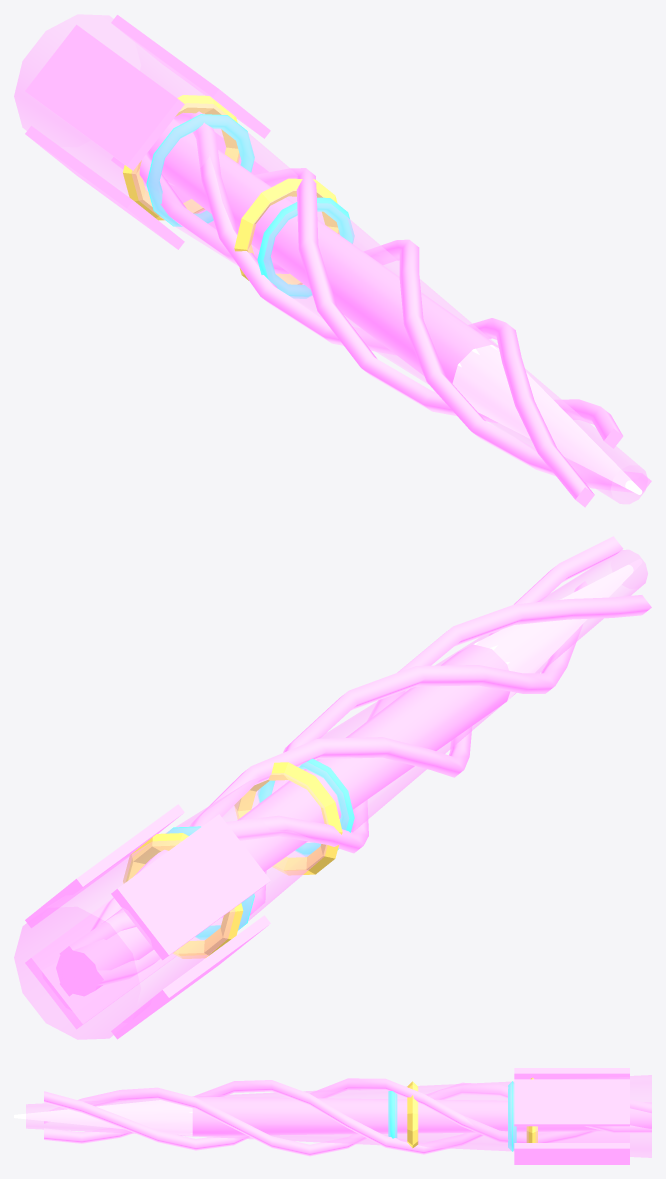
The model's file is tachyon_lance.glb.
The picture shows the model from 3 angles, top to bottom: view 1: azimuth 30°, elevation 25°; view 2: azimuth 150°, elevation 25°; view 3: azimuth 270°, elevation 25°; orthographic projection. The views are drawn at different scales.
Visible parts, largest first — view 1: Tachyon_Lance_Mesh; view 2: Tachyon_Lance_Mesh; view 3: Tachyon_Lance_Mesh.
Boxes of the visible parts, bbox=[...] form: Tachyon_Lance_Mesh: bbox=[14, 14, 651, 507]; Tachyon_Lance_Mesh: bbox=[14, 536, 651, 1039]; Tachyon_Lance_Mesh: bbox=[14, 1068, 651, 1164].
Bounding box in the file's own units: 0.4738 × 0.4738 × 3.2.
